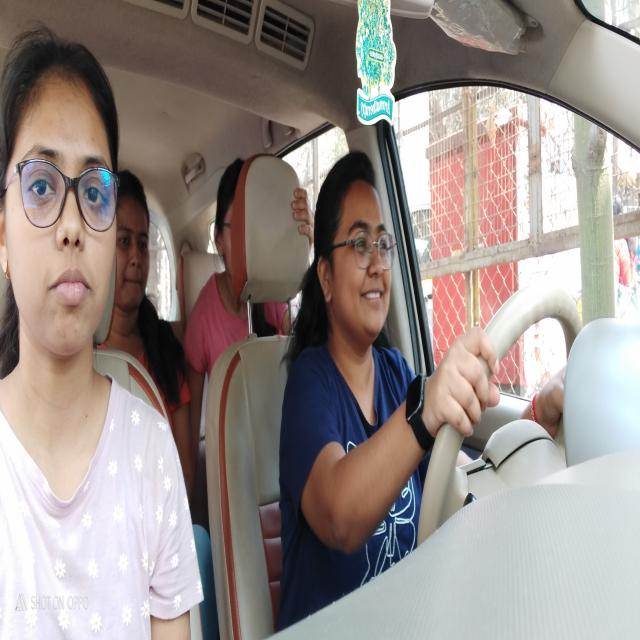person: (0, 23, 126, 390), (312, 152, 400, 366), (116, 162, 160, 326), (217, 159, 251, 288)
